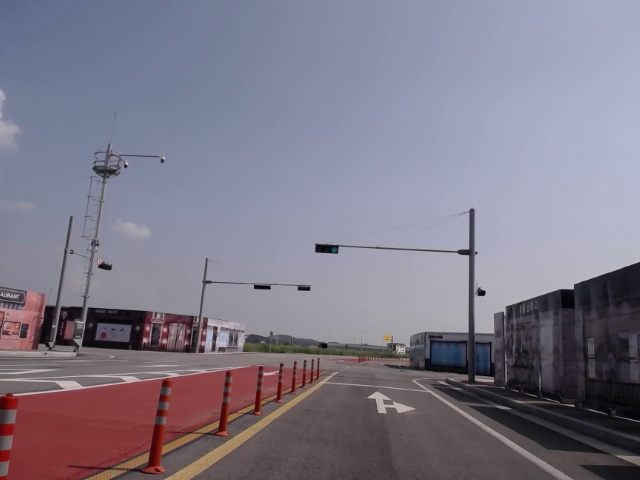green_3: (315, 244, 339, 255)
